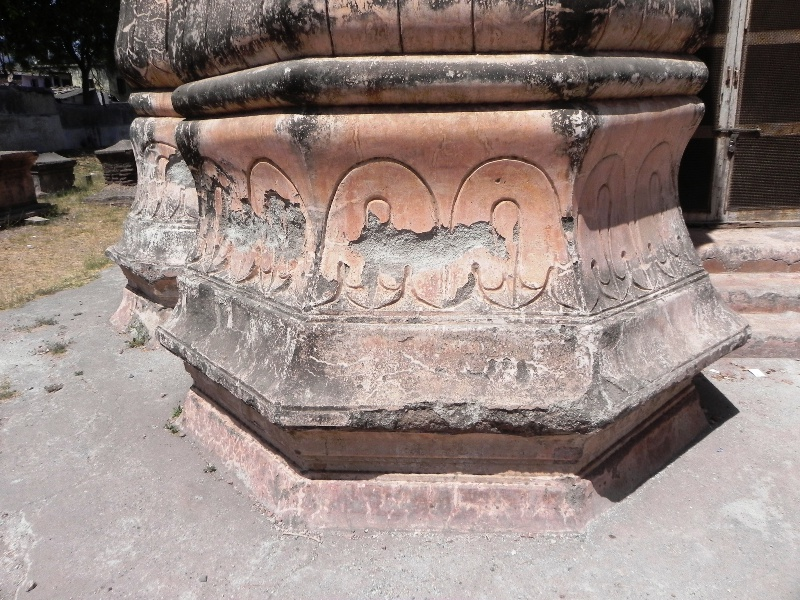Spalling: (346, 209, 510, 269), (221, 190, 305, 263)
